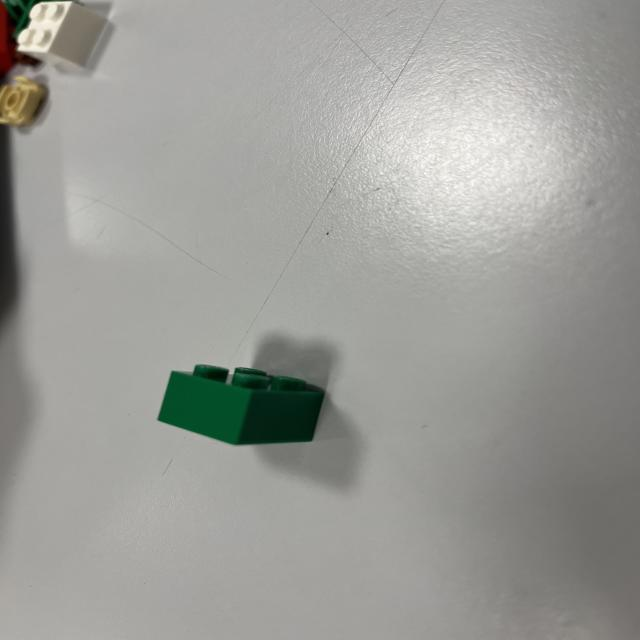C2x2x1: (154, 360, 328, 450)
